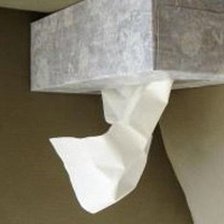book: (23, 0, 223, 101)
tissue: (43, 75, 179, 218)
